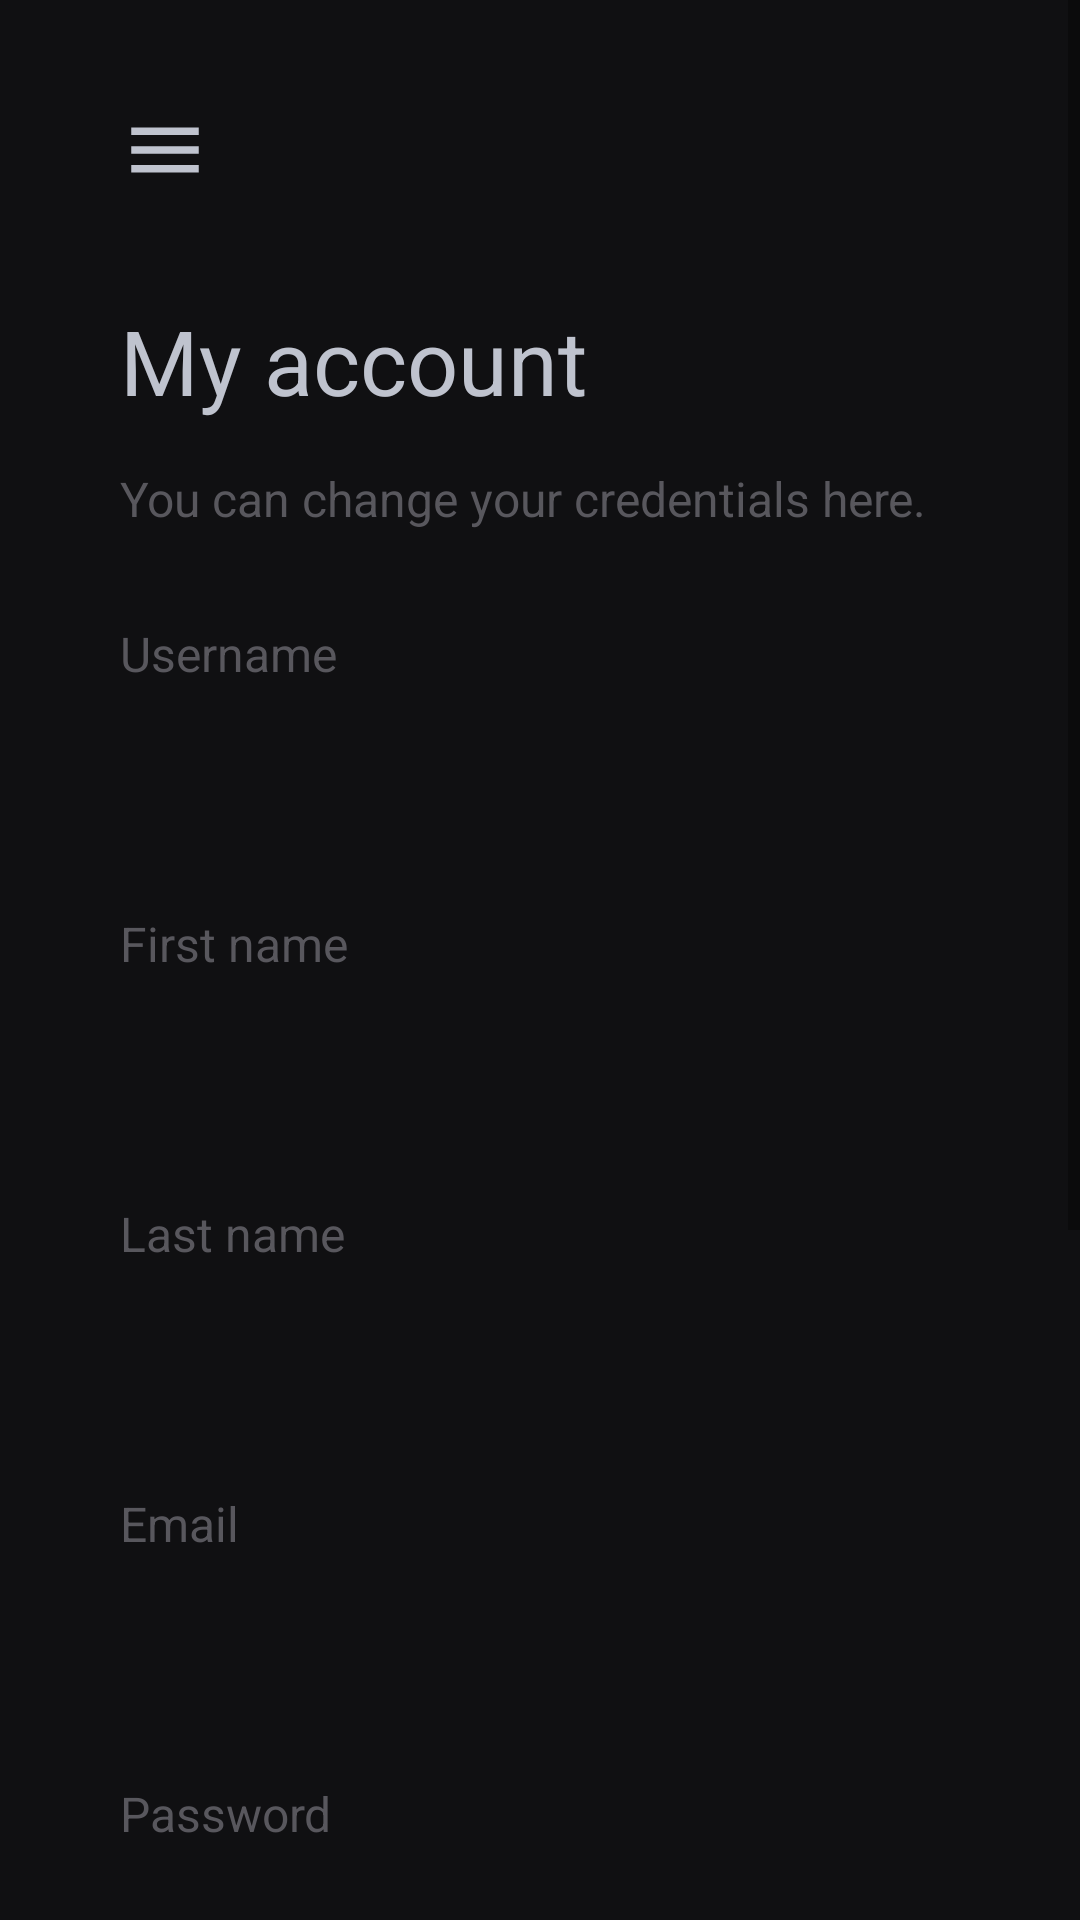

Icon click points for this 1080x1920 phone screenshot, format (x,y):
menu: (165,150)
